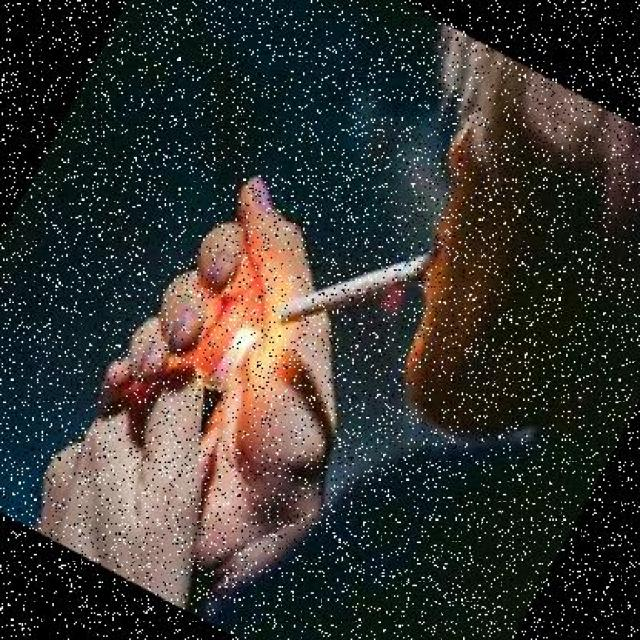fire: (197, 302, 281, 400)
